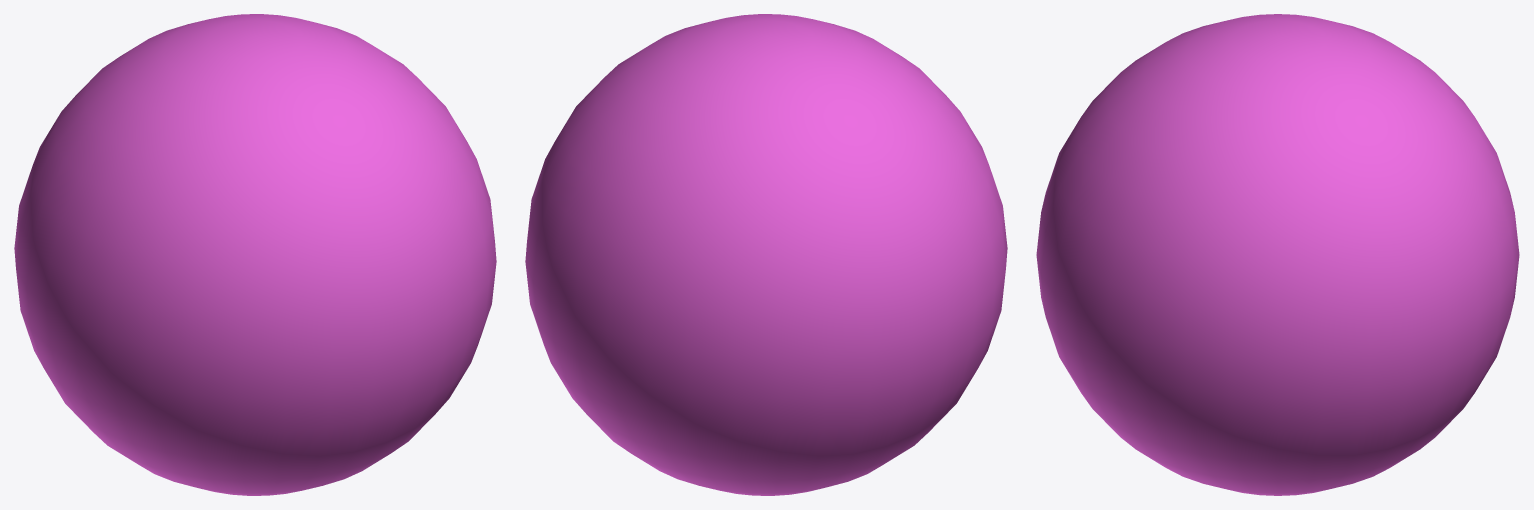
Rendered from morphSphere_shape2.gltf.
The picture shows the model from 3 angles, left to right: view 1: azimuth 30°, elevation 25°; view 2: azimuth 150°, elevation 25°; view 3: azimuth 270°, elevation 25°; orthographic projection.
Visible parts, largest first — view 1: Sphere; view 2: Sphere; view 3: Sphere.
Boxes of the visible parts, x1=… form: Sphere: x1=14, y1=14, x2=496, y2=495; Sphere: x1=525, y1=14, x2=1007, y2=495; Sphere: x1=1036, y1=14, x2=1519, y2=495.
Size of the model in its own units: 8.46 by 8.45 by 8.46.
